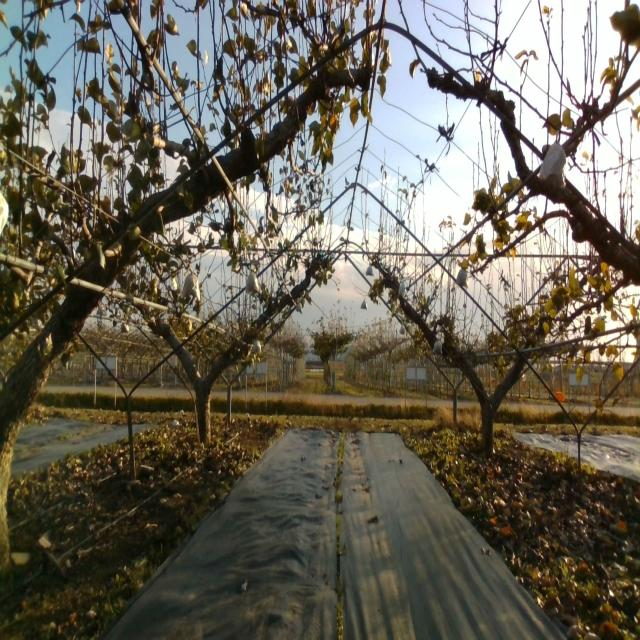pearbags: (537, 130, 566, 189), (181, 269, 200, 301), (246, 267, 260, 294), (456, 269, 468, 287)
